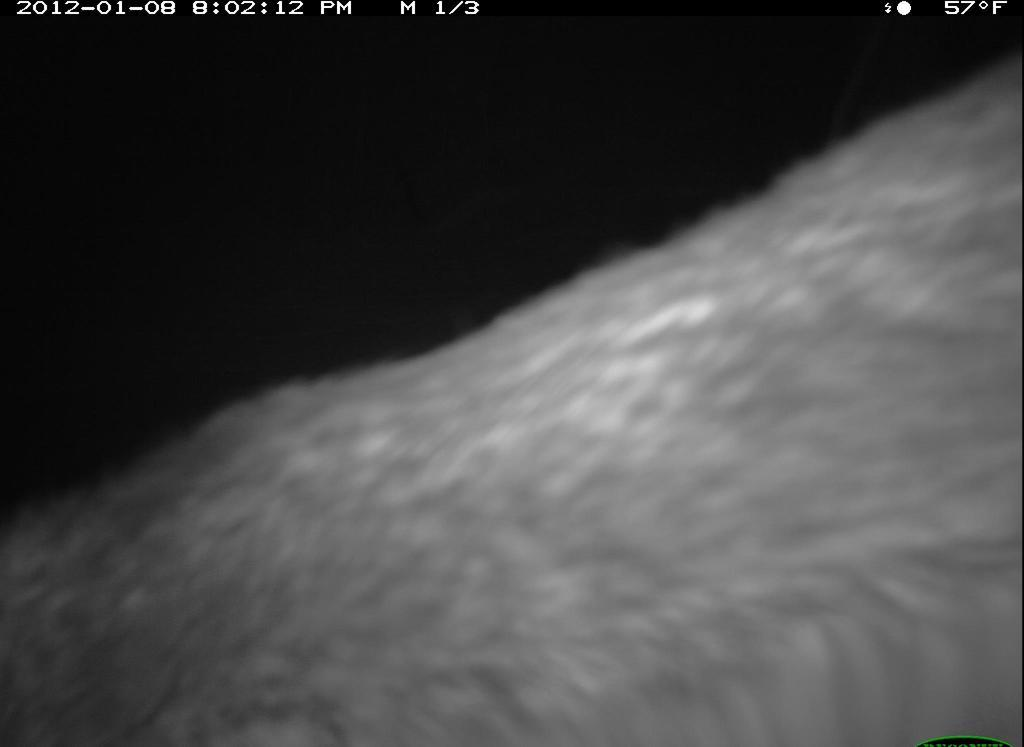raccoon: (2, 67, 1024, 747)
